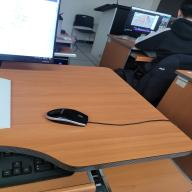mouse: (44, 108, 90, 128)
